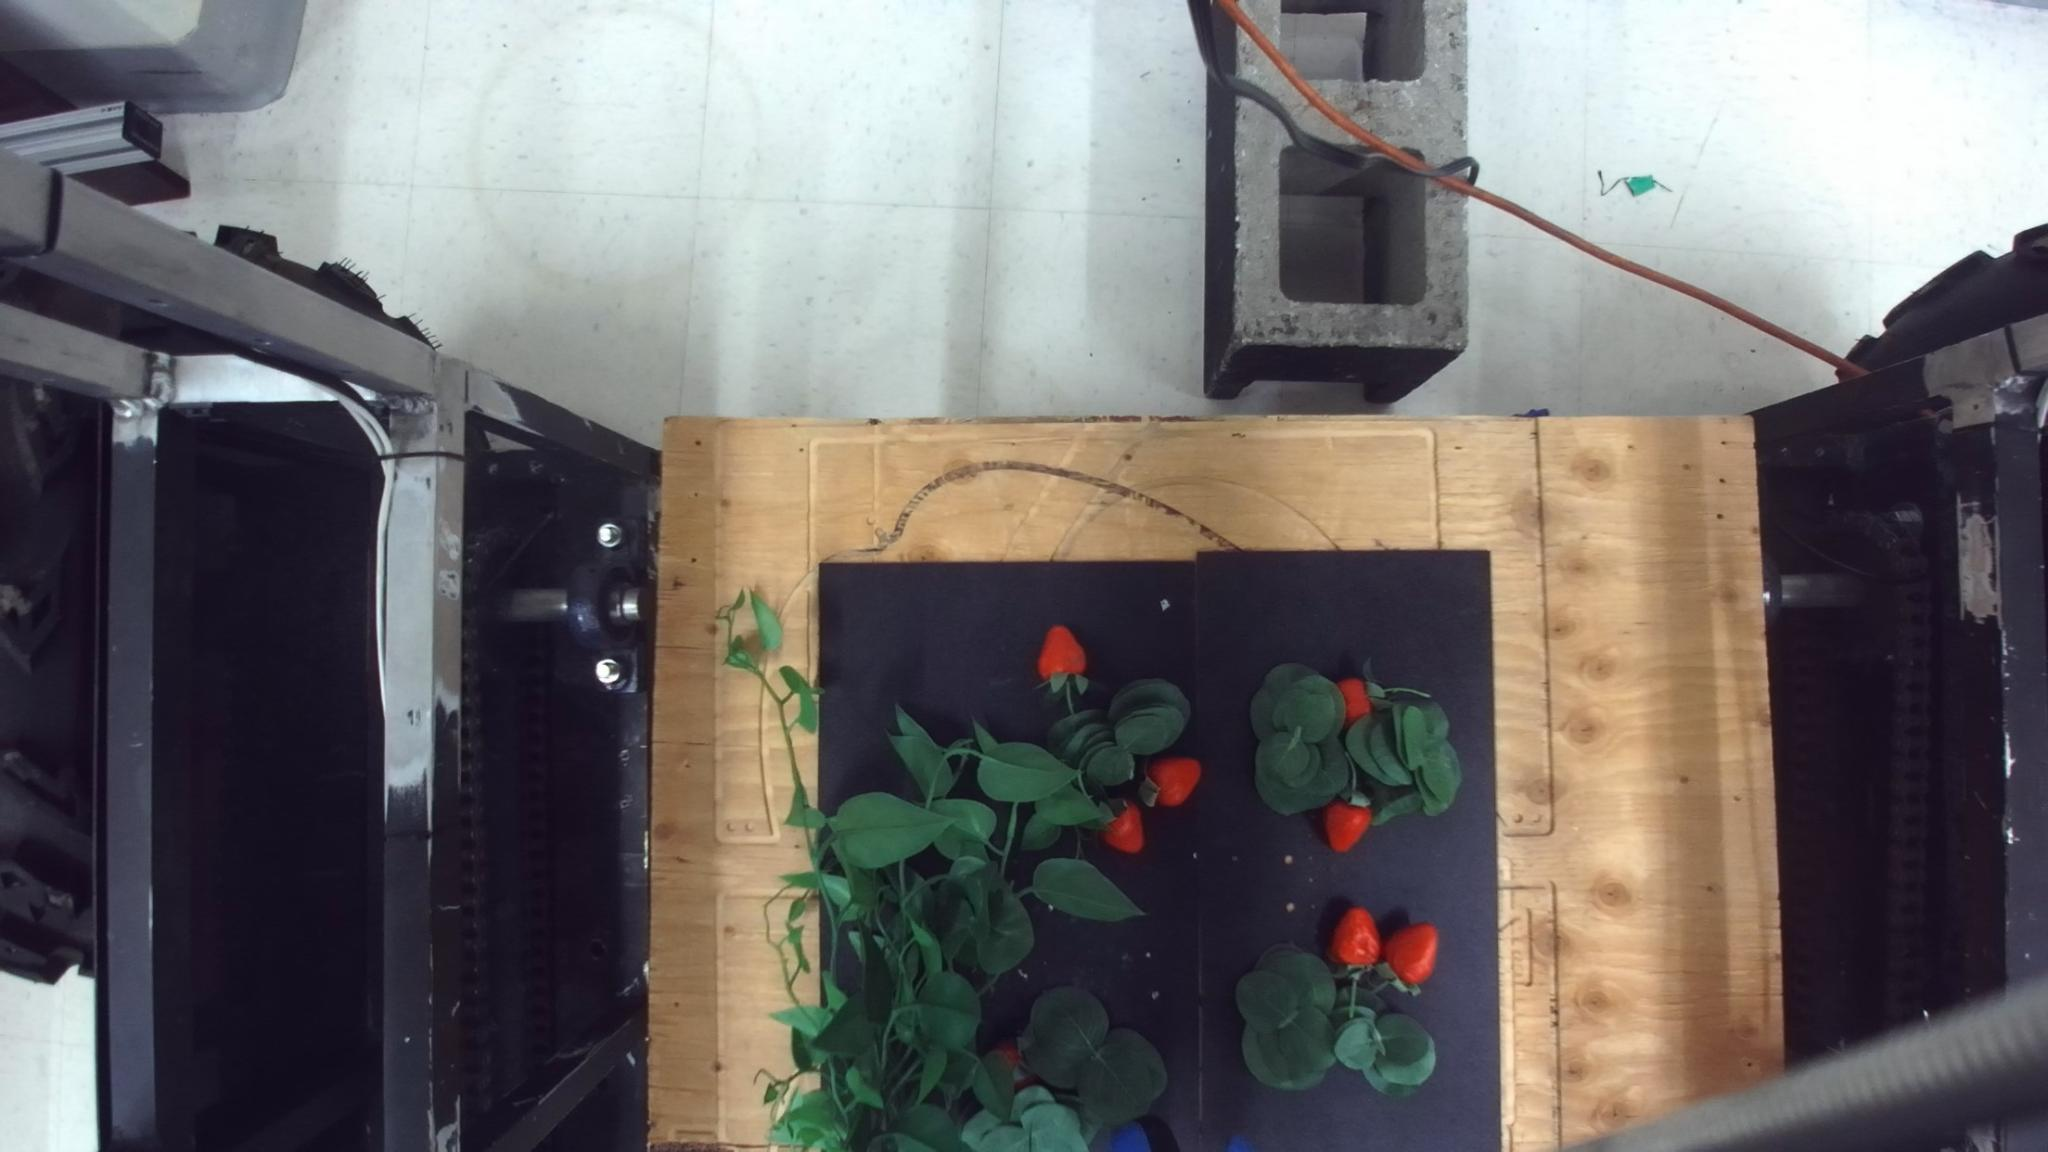mature: (1384, 920, 1439, 994), (1329, 904, 1381, 975), (1035, 623, 1086, 691), (1138, 755, 1201, 807), (1322, 792, 1373, 852), (1100, 799, 1145, 854), (993, 1044, 1034, 1089), (1336, 675, 1371, 723)
